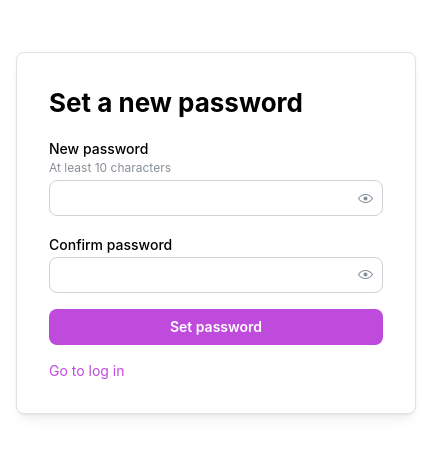
Scenario: an expired link shows the server message
Type "brand-new-pass-1" into the password field labelled "New password".
click(216, 198); type("brand-new-pass-1")  # box x1=50 y1=181 x2=382 y2=215
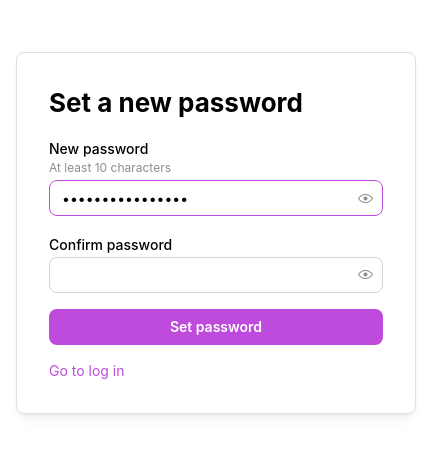
Type "brand-new-pass-1" into the password field labelled "Confirm password".
click(216, 275); type("brand-new-pass-1")  # box x1=50 y1=258 x2=382 y2=292
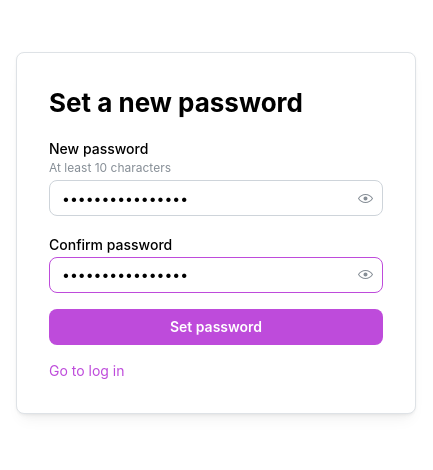
Click the button "Set password".
click(216, 327)  # box x1=49 y1=309 x2=383 y2=345
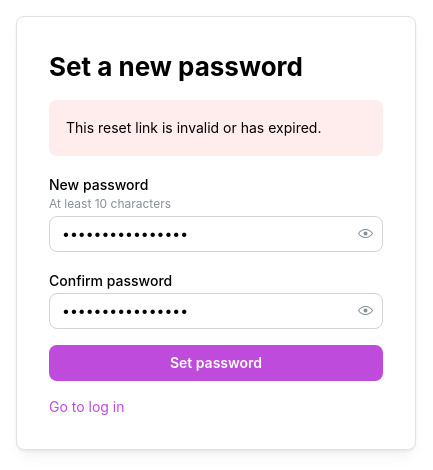
Result: the text "This reset link is invalid or has expired." is shown at x1=66 y1=117 x2=366 y2=139
